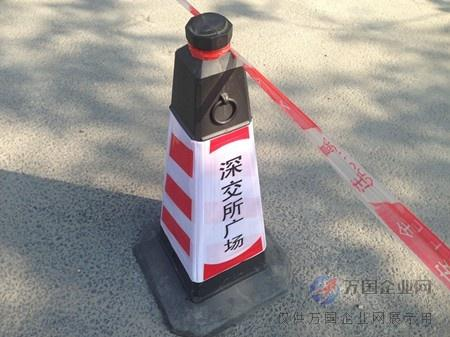cone_barrel: (140, 16, 282, 299)
